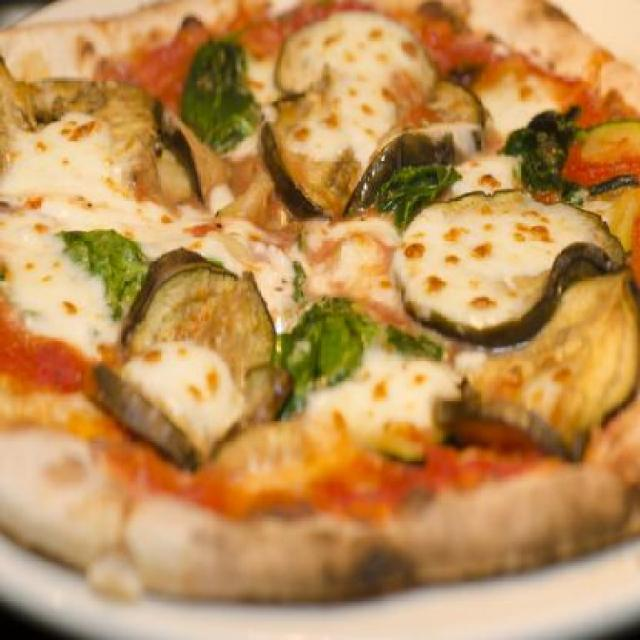Pizza: (0, 0, 637, 592)
